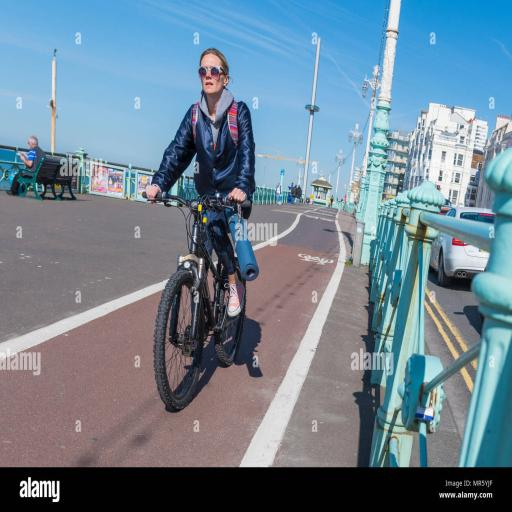no_helm: (181, 27, 247, 127)
